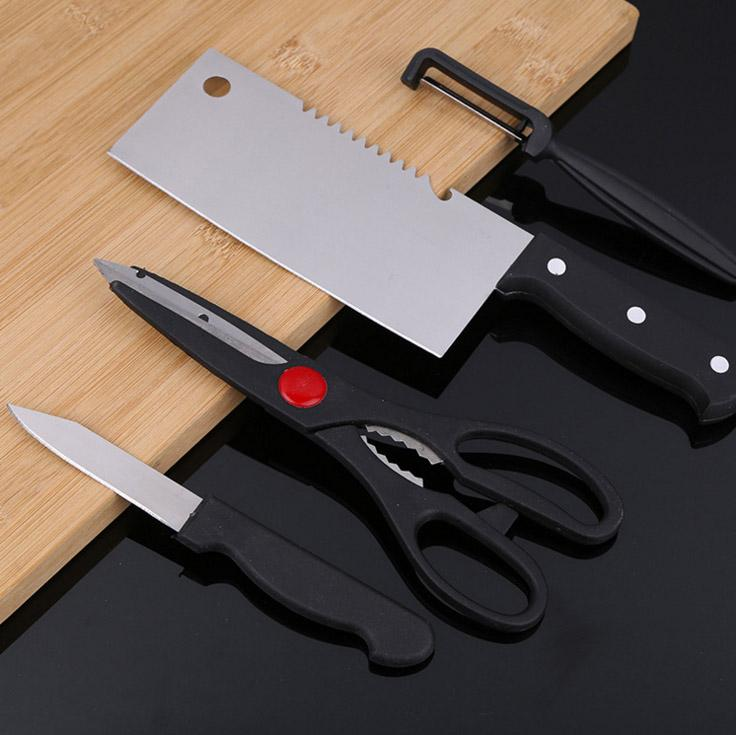knife: (114, 90, 552, 267), (10, 395, 268, 657)
